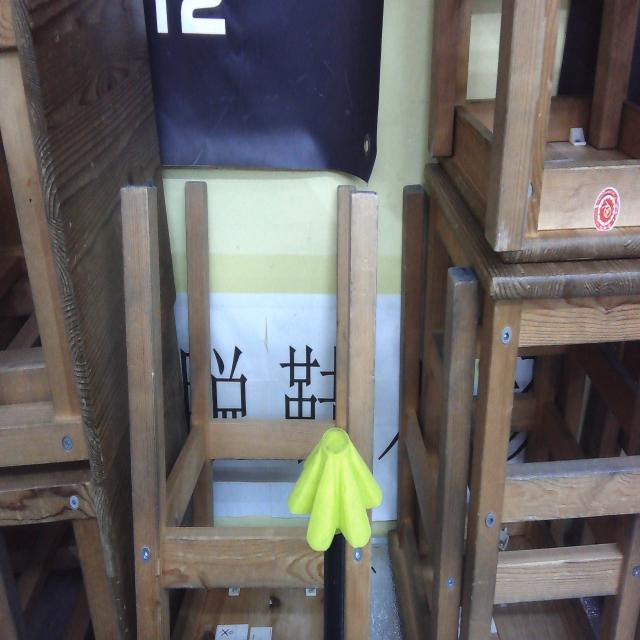Yellow-Stake-Head: (287, 427, 383, 552)
